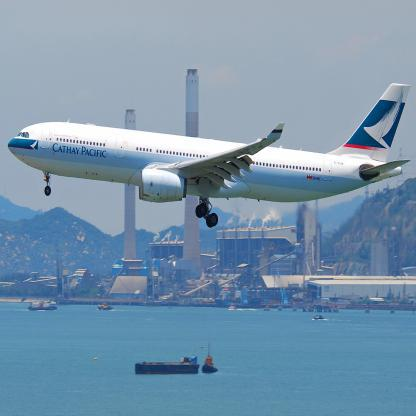CIV_Plane: (6, 81, 411, 230)
